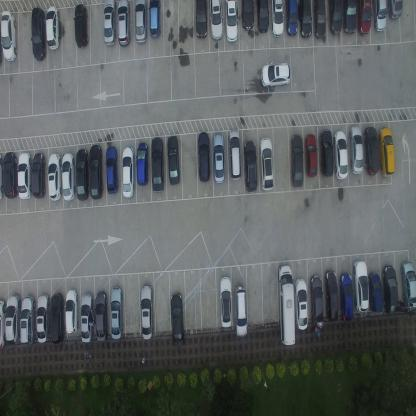car: (278, 264, 294, 347), (30, 6, 47, 62), (0, 10, 18, 62), (352, 260, 370, 312), (382, 264, 399, 316), (308, 274, 324, 329), (363, 124, 380, 175), (169, 293, 185, 346), (333, 129, 349, 181), (49, 292, 65, 344), (5, 292, 21, 344), (259, 136, 274, 191), (378, 126, 394, 177), (140, 284, 154, 341), (290, 132, 304, 188), (234, 286, 249, 338), (260, 62, 290, 88), (89, 144, 103, 199), (75, 147, 89, 202), (400, 260, 416, 308), (20, 296, 36, 344), (339, 271, 354, 322), (324, 271, 339, 322), (243, 138, 257, 192), (151, 135, 164, 193), (73, 3, 89, 49), (197, 132, 211, 184), (294, 278, 308, 330), (110, 285, 123, 341), (94, 290, 108, 342), (80, 292, 94, 344), (36, 291, 50, 343), (319, 129, 334, 177), (2, 151, 17, 199), (349, 124, 363, 175), (219, 278, 233, 328), (166, 135, 180, 185), (61, 152, 75, 202), (31, 152, 46, 198), (228, 128, 241, 181), (212, 132, 225, 185), (121, 145, 134, 198), (103, 0, 117, 48), (64, 288, 78, 336), (105, 144, 118, 195), (224, 0, 239, 44), (17, 152, 31, 199), (117, 0, 131, 47), (46, 5, 60, 50), (327, 0, 344, 37), (48, 152, 61, 200), (368, 272, 383, 312), (210, 0, 224, 42), (194, 0, 208, 41), (313, 0, 327, 41), (134, 0, 147, 44), (305, 132, 317, 178), (136, 140, 148, 186), (299, 0, 313, 39), (357, 0, 372, 35), (149, 0, 162, 40), (270, 0, 284, 37), (372, 0, 387, 34), (286, 0, 298, 36), (344, 0, 356, 35), (242, 0, 255, 32), (257, 0, 269, 33), (387, 0, 403, 23), (0, 298, 6, 350), (0, 151, 4, 201)
